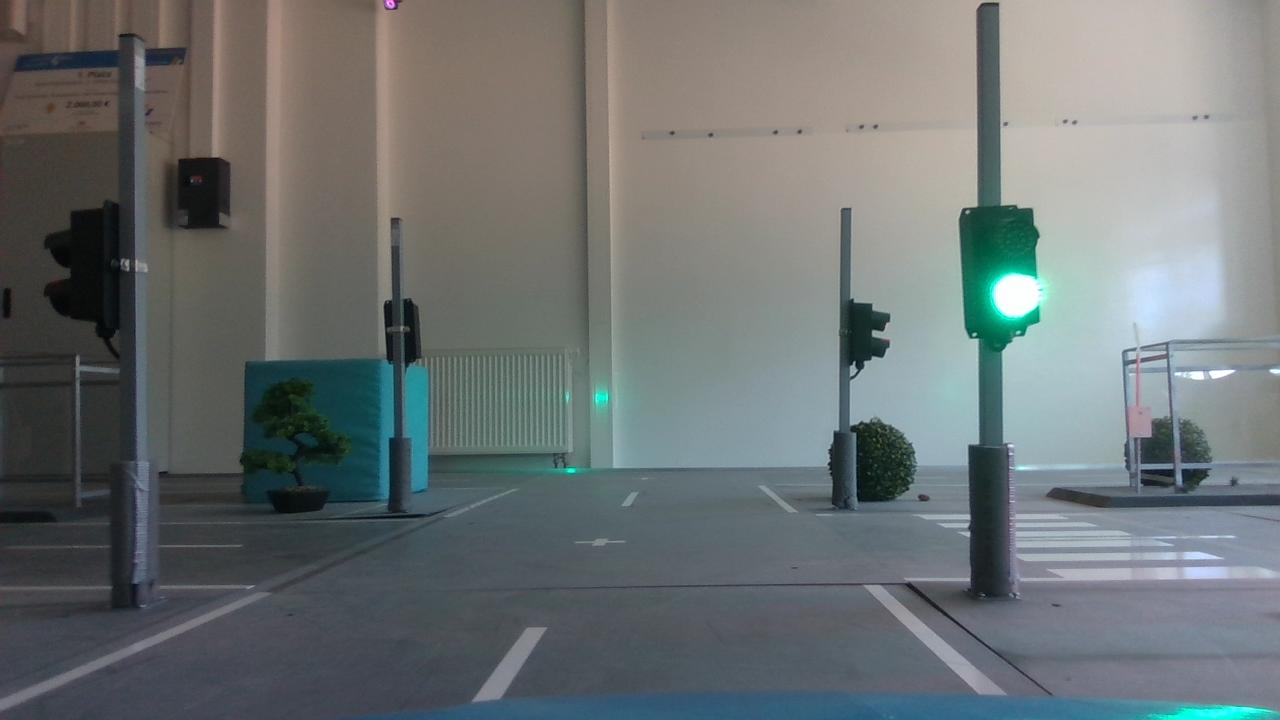traffic_light_green: (947, 187, 1062, 353)
